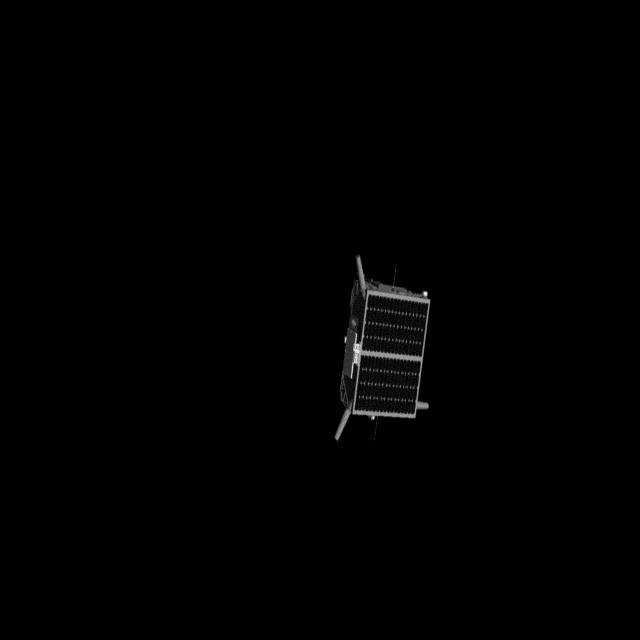satellite: (330, 250, 430, 452)
